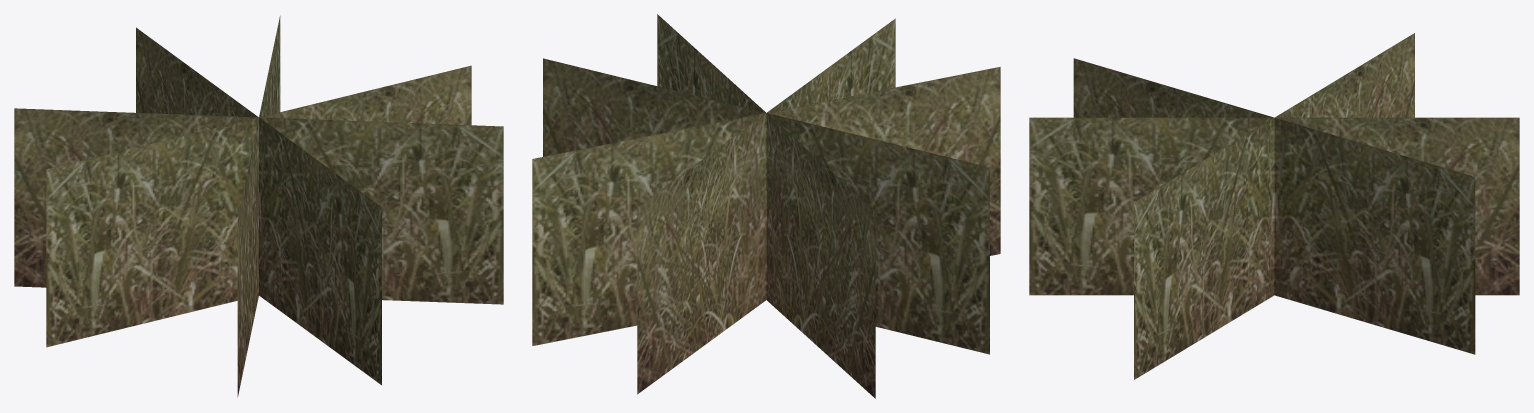
Rendered from bush-mesh.FBX.
3 renders of one model, left to right at view 1: azimuth 30°, elevation 25°; view 2: azimuth 150°, elevation 25°; view 3: azimuth 270°, elevation 25°, orthographic. The views are drawn at different scales.
Parts seen in each view (by area): view 1: Plane001, Plane004, Plane003, Plane005; view 2: Plane005, Plane001, Plane003, Plane004; view 3: Plane005, Plane003, Plane004.
Boxes of the visible parts, x1,y1,x2,y2 form: Plane001: (46, 65, 471, 347); Plane004: (14, 108, 503, 304); Plane003: (136, 27, 381, 385); Plane005: (237, 15, 280, 397); Plane005: (532, 67, 1000, 345); Plane001: (543, 58, 989, 354); Plane003: (637, 18, 895, 394); Plane004: (657, 14, 875, 398); Plane005: (1073, 58, 1475, 354); Plane003: (1029, 117, 1519, 295); Plane004: (1134, 33, 1414, 379).
Size of the model in its own units: 1 by 0.4 by 1.
1 material, 1 textured.
